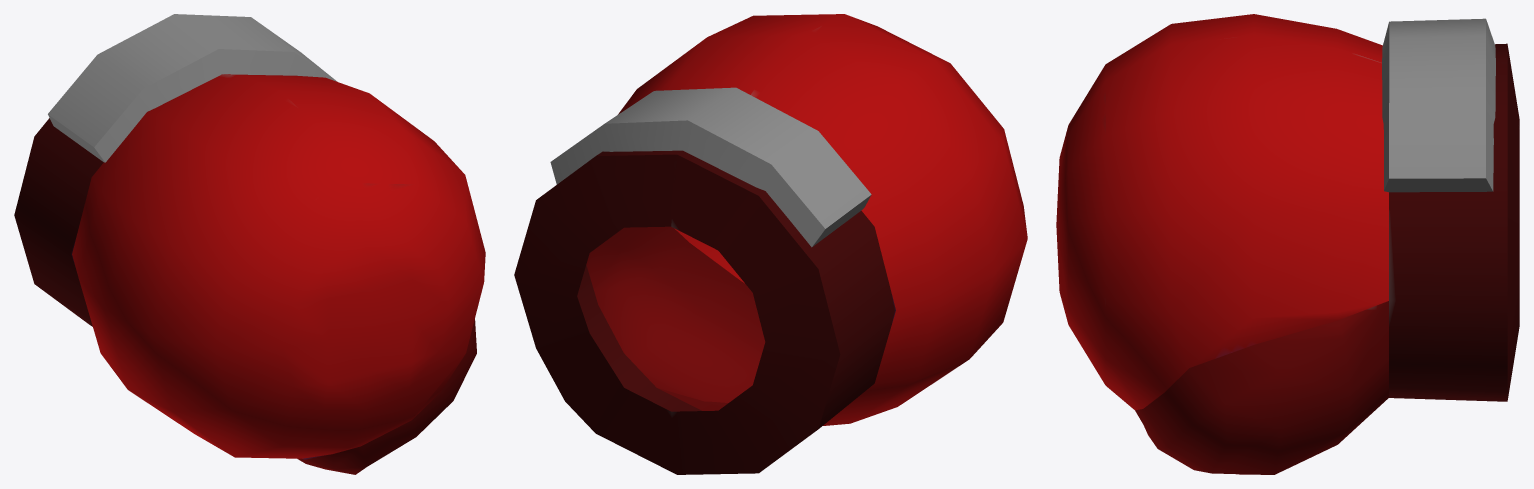
Rendered from Glove01_R.fbx.
The picture shows the model from 3 angles, left to right: view 1: azimuth 30°, elevation 25°; view 2: azimuth 150°, elevation 25°; view 3: azimuth 270°, elevation 25°; orthographic projection. The views are drawn at different scales.
Visible parts, largest first — view 1: Glove01_R; view 2: Glove01_R; view 3: Glove01_R.
Part boxes in pixels (box(x1,y1,x2,y2)): Glove01_R: box(14, 14, 485, 474); Glove01_R: box(514, 14, 1027, 474); Glove01_R: box(1056, 14, 1519, 474).
Size of the model in its own units: 52.52 by 51.53 by 53.73.
1 material, 1 textured.
